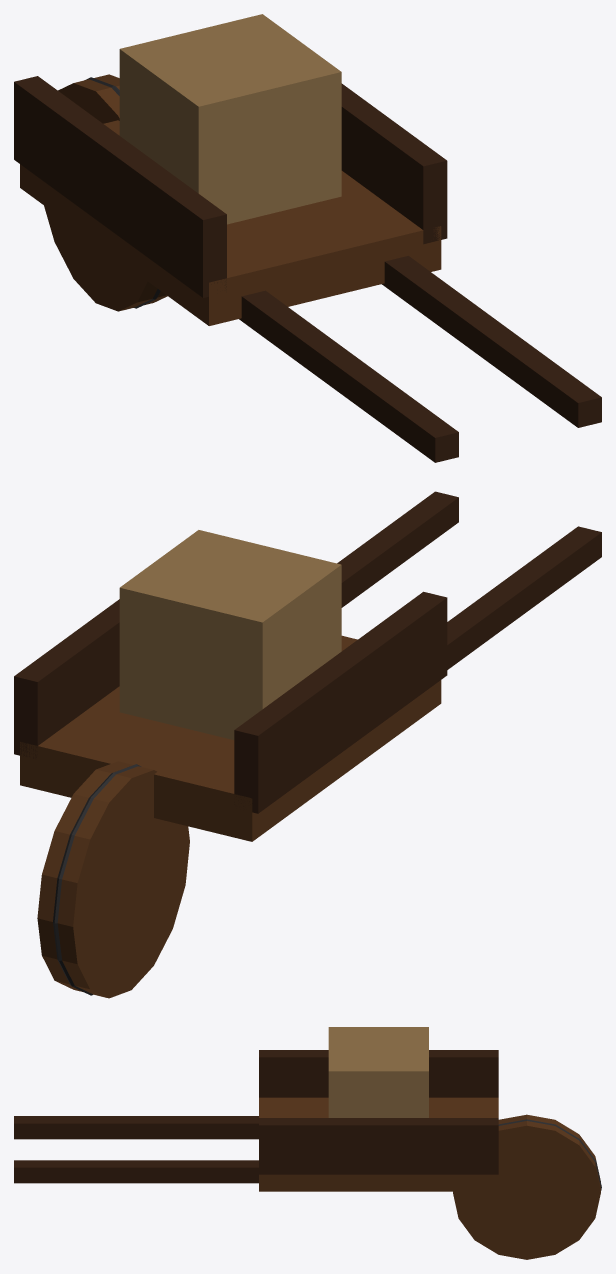
Rendered from merchant_barrow.glb.
3 renders of one model, top to bottom at view 1: azimuth 30°, elevation 25°; view 2: azimuth 150°, elevation 25°; view 3: azimuth 270°, elevation 25°, orthographic. The views are drawn at different scales.
Parts seen in each view (by area): view 1: CargoSack, Tray, TrayLipLeft, HandleLeft, HandleRight, TrayLipRight, Wheel; view 2: CargoSack, Wheel, Tray, TrayLipLeft, TrayLipRight, HandleLeft, HandleRight, Wheel_IronHoop; view 3: Wheel, TrayLipRight, CargoSack, Tray, TrayLipLeft, HandleLeft, HandleRight.
Part boxes in pixels (<box>): CargoSack: <box>119,14,341,224</box>; Tray: <box>20,120,441,325</box>; TrayLipLeft: <box>14,76,226,297</box>; HandleLeft: <box>239,290,458,462</box>; HandleRight: <box>382,256,601,427</box>; TrayLipRight: <box>341,83,447,244</box>; Wheel: <box>44,74,167,311</box>; CargoSack: <box>119,530,341,739</box>; Wheel: <box>37,761,189,998</box>; Tray: <box>20,635,441,841</box>; TrayLipLeft: <box>234,591,447,813</box>; TrayLipRight: <box>14,599,119,758</box>; HandleLeft: <box>447,526,601,669</box>; HandleRight: <box>337,491,458,607</box>; Wheel_IronHoop: <box>53,764,141,995</box>; Wheel: <box>453,1114,600,1259</box>; TrayLipRight: <box>259,1118,498,1174</box>; CargoSack: <box>328,1027,428,1117</box>; Tray: <box>259,1097,498,1191</box>; TrayLipLeft: <box>259,1050,498,1097</box>; HandleLeft: <box>14,1116,258,1139</box>; HandleRight: <box>14,1160,258,1183</box>.
Size of the model in its own units: 0.82 by 1.04 by 2.7.
Materials: 4 (4 with a texture image).
